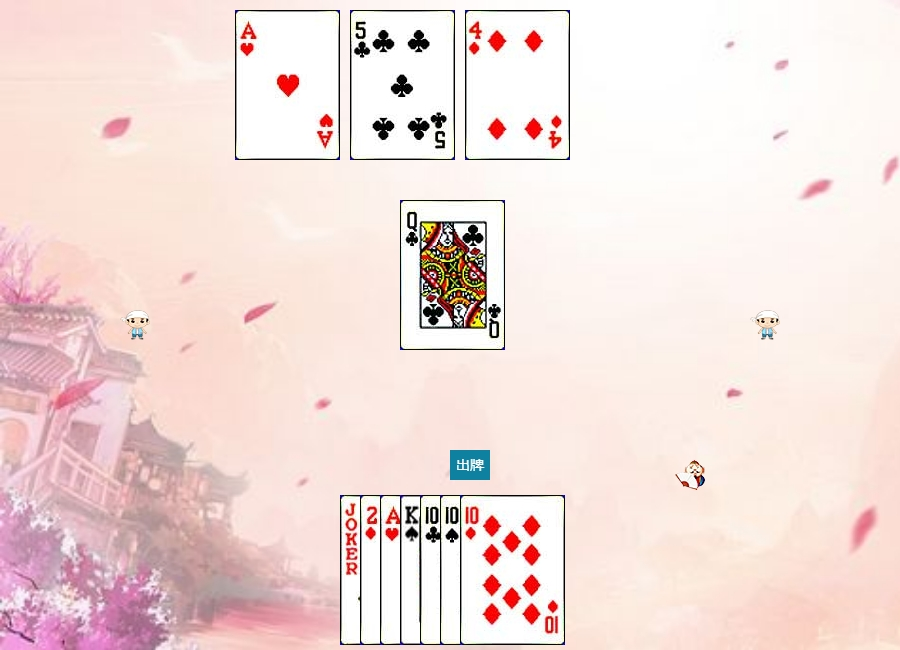10~1: (460, 495, 565, 645)
10~2: (420, 495, 525, 645)
10~4: (440, 495, 545, 645)
12~2: (400, 200, 505, 350)
13~4: (400, 495, 505, 645)
14~3: (235, 10, 340, 160), (380, 495, 485, 645)
15~1: (360, 495, 465, 645)
18~4: (340, 495, 445, 645)
4~1: (465, 10, 570, 160)
5~2: (350, 10, 455, 160)
